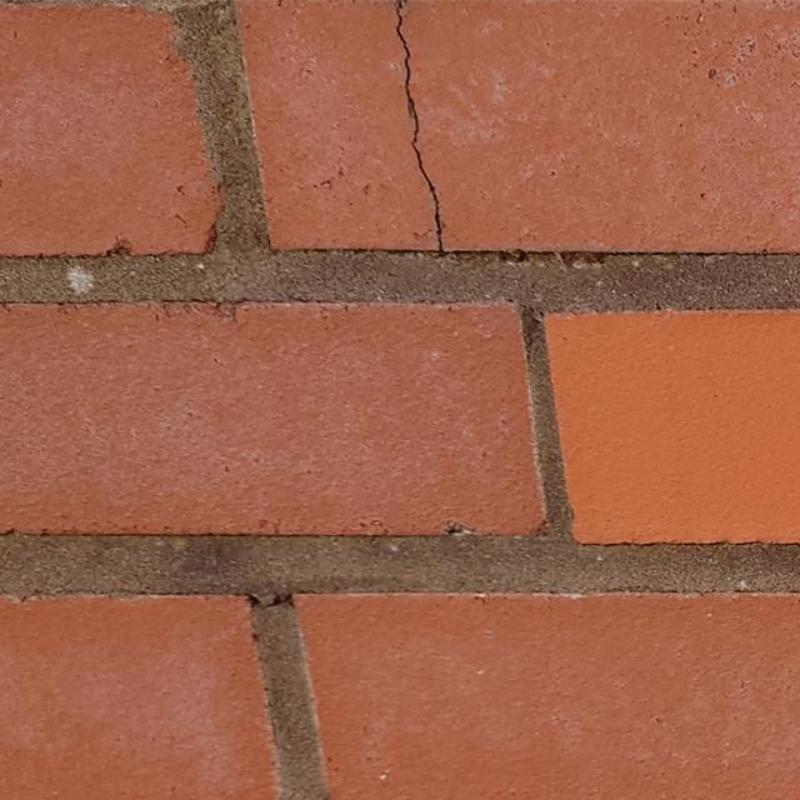pothole: (394, 0, 444, 253)
